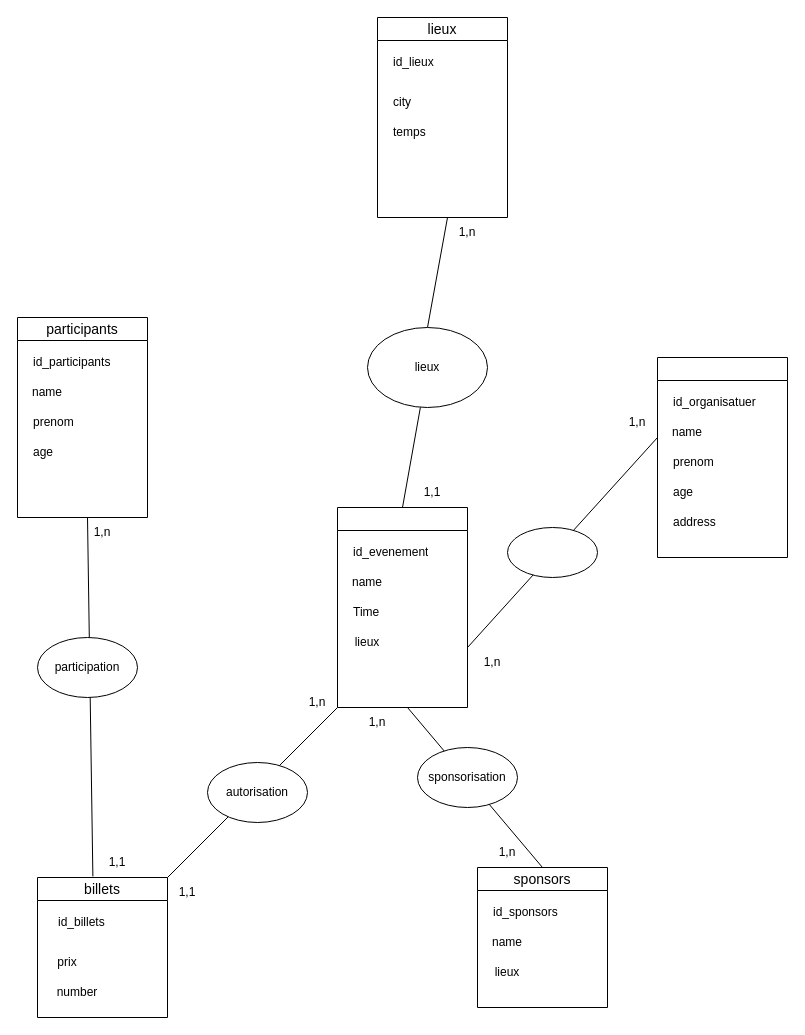
Some shapes in this 805 by 1035 pixel diagram are drawn without their labels. The shapes that lost their labels are listed below. From the top down, each one's box as (x1, y1, x2, y2) in pixels, then its label:
(656, 356, 788, 558): organisateurs
(506, 526, 598, 578): organisation
(336, 506, 468, 708): événements
